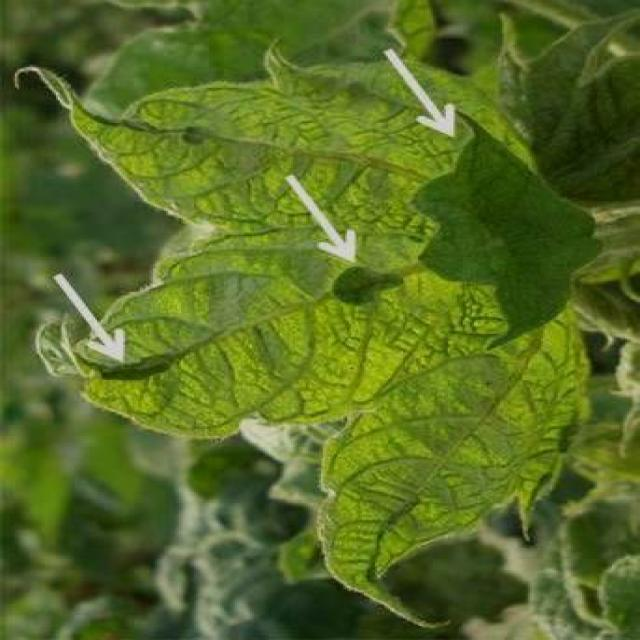Leaf Curl Virus: (185, 114, 618, 404)
